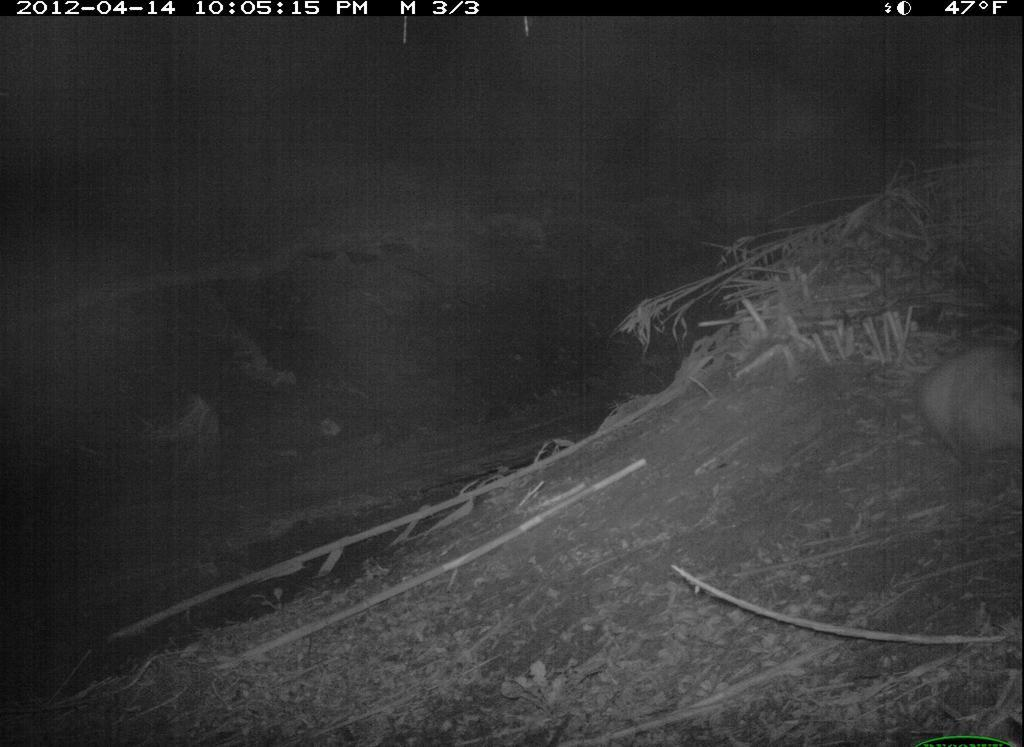opossum: (922, 345, 1023, 464)
